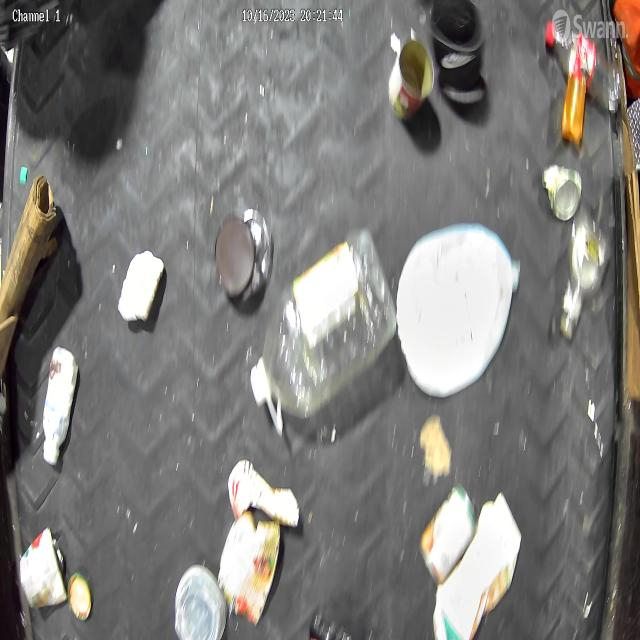can: (419, 482, 476, 586), (19, 524, 68, 612), (388, 36, 435, 120), (542, 164, 582, 221)
milk_jug: (396, 222, 520, 397)
plastic_bottle: (250, 226, 398, 434), (544, 21, 624, 111)
